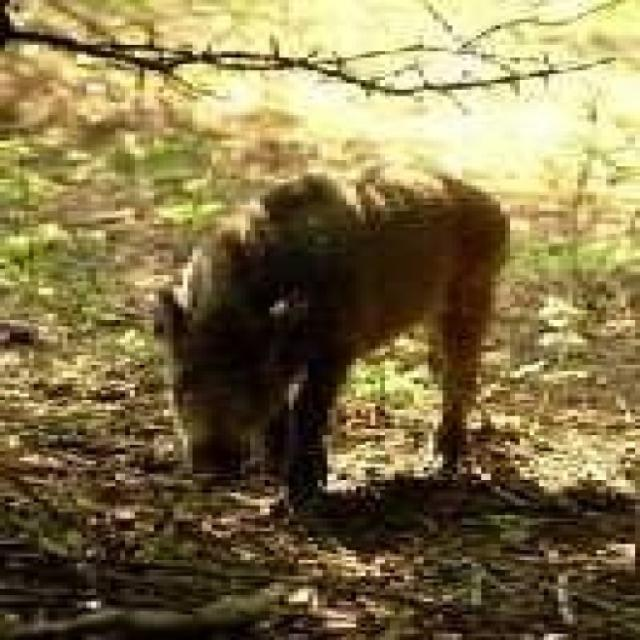pig: (95, 120, 490, 498)
